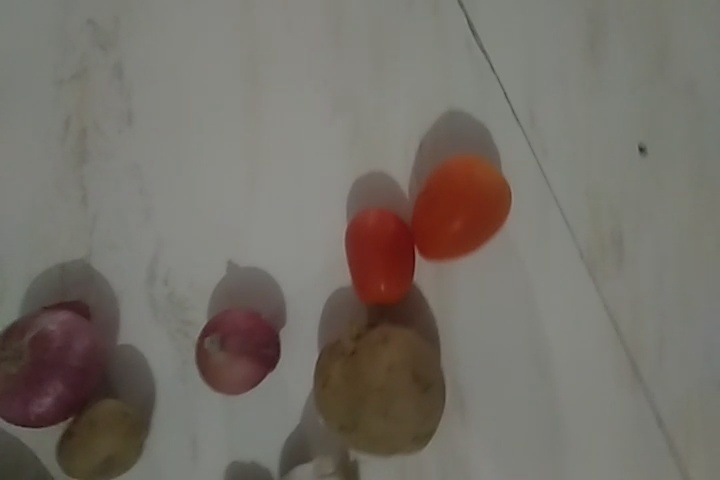onion: (3, 307, 97, 427), (196, 311, 278, 391)
potato: (313, 325, 446, 462), (63, 401, 148, 472)
tomato: (417, 151, 509, 258), (348, 204, 414, 305)
